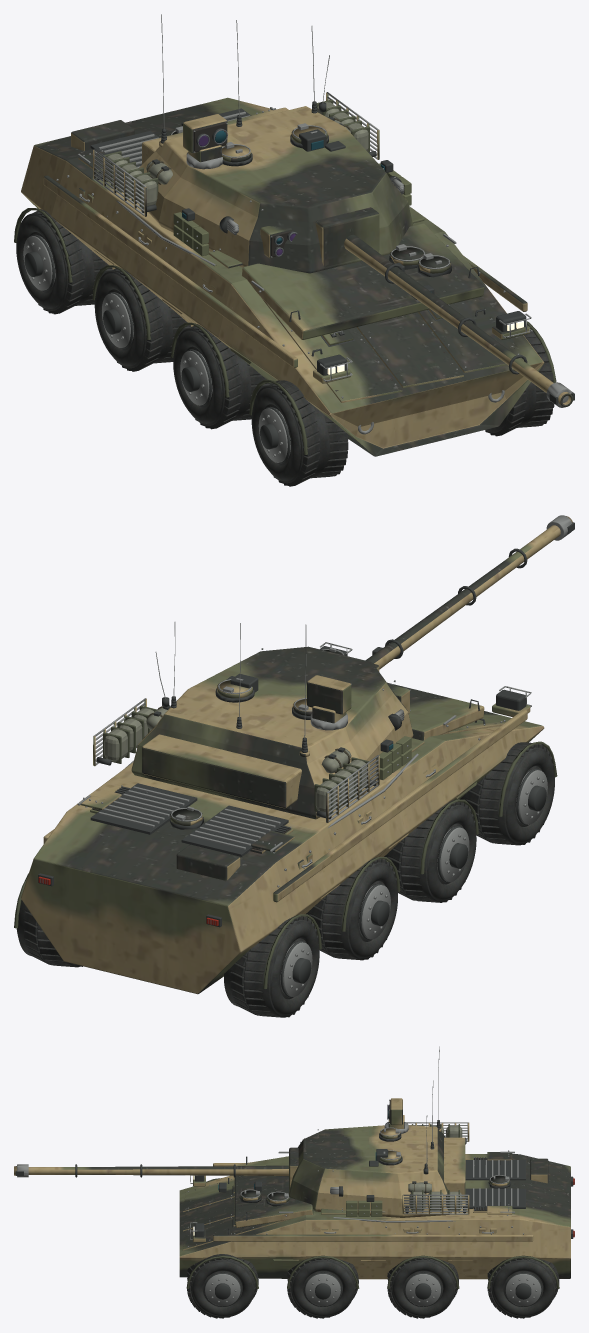
The model's file is centauro2.glb.
The picture shows the model from 3 angles, top to bottom: view 1: azimuth 30°, elevation 25°; view 2: azimuth 150°, elevation 25°; view 3: azimuth 270°, elevation 25°; orthographic projection. The views are drawn at different scales.
Parts seen in each view (by area): view 1: body_visual, turret_visual, wheel_R_03_visual, wheel_R_02_visual, wheel_R_00_visual, wheel_R_01_visual, recoiling-barrel_visual, gun_visual, wheel_L_03_visual; view 2: body_visual, turret_visual, wheel_R_00_visual, wheel_R_03_visual, wheel_R_02_visual, wheel_R_01_visual, recoiling-barrel_visual, wheel_L_00_visual; view 3: body_visual, turret_visual, wheel_L_03_visual, wheel_L_00_visual, wheel_L_02_visual, wheel_L_01_visual, recoiling-barrel_visual.
Part boxes in pixels (x1,y1,x2,y2): body_visual: [14, 97, 556, 456]; turret_visual: [93, 14, 412, 273]; wheel_R_03_visual: [251, 380, 348, 486]; wheel_R_02_visual: [173, 324, 269, 429]; wheel_R_00_visual: [16, 209, 112, 314]; wheel_R_01_visual: [94, 268, 190, 371]; recoiling-barrel_visual: [344, 234, 574, 407]; gun_visual: [315, 207, 379, 267]; wheel_L_03_visual: [485, 329, 554, 436]; body_visual: [14, 642, 557, 994]; turret_visual: [93, 622, 413, 822]; wheel_R_00_visual: [224, 916, 319, 1017]; wheel_R_03_visual: [460, 742, 554, 845]; wheel_R_02_visual: [384, 800, 476, 902]; wheel_R_01_visual: [306, 857, 397, 960]; recoiling-barrel_visual: [365, 515, 574, 669]; wheel_L_00_visual: [16, 900, 82, 967]; body_visual: [179, 1150, 574, 1288]; turret_visual: [289, 1046, 469, 1217]; wheel_L_03_visual: [187, 1254, 258, 1318]; wheel_L_00_visual: [487, 1258, 559, 1318]; wheel_L_02_visual: [287, 1258, 358, 1318]; wheel_L_01_visual: [387, 1257, 458, 1318]; recoiling-barrel_visual: [14, 1164, 288, 1177].
Bounding box in the file's own units: 3.86 × 4.44 × 10.71.
14 materials, 3 textured.
